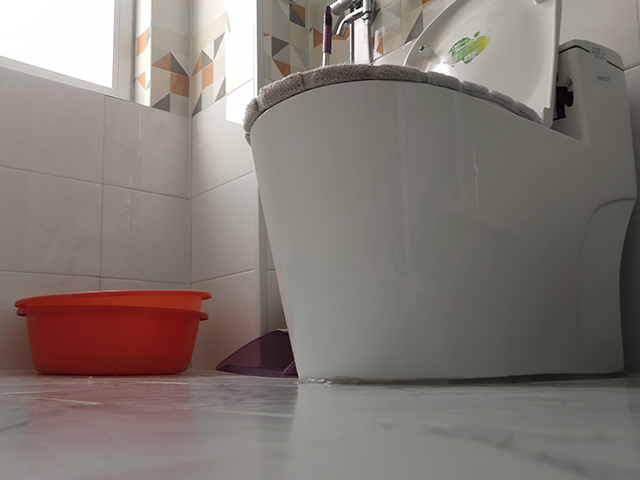closestool: (241, 1, 640, 386)
